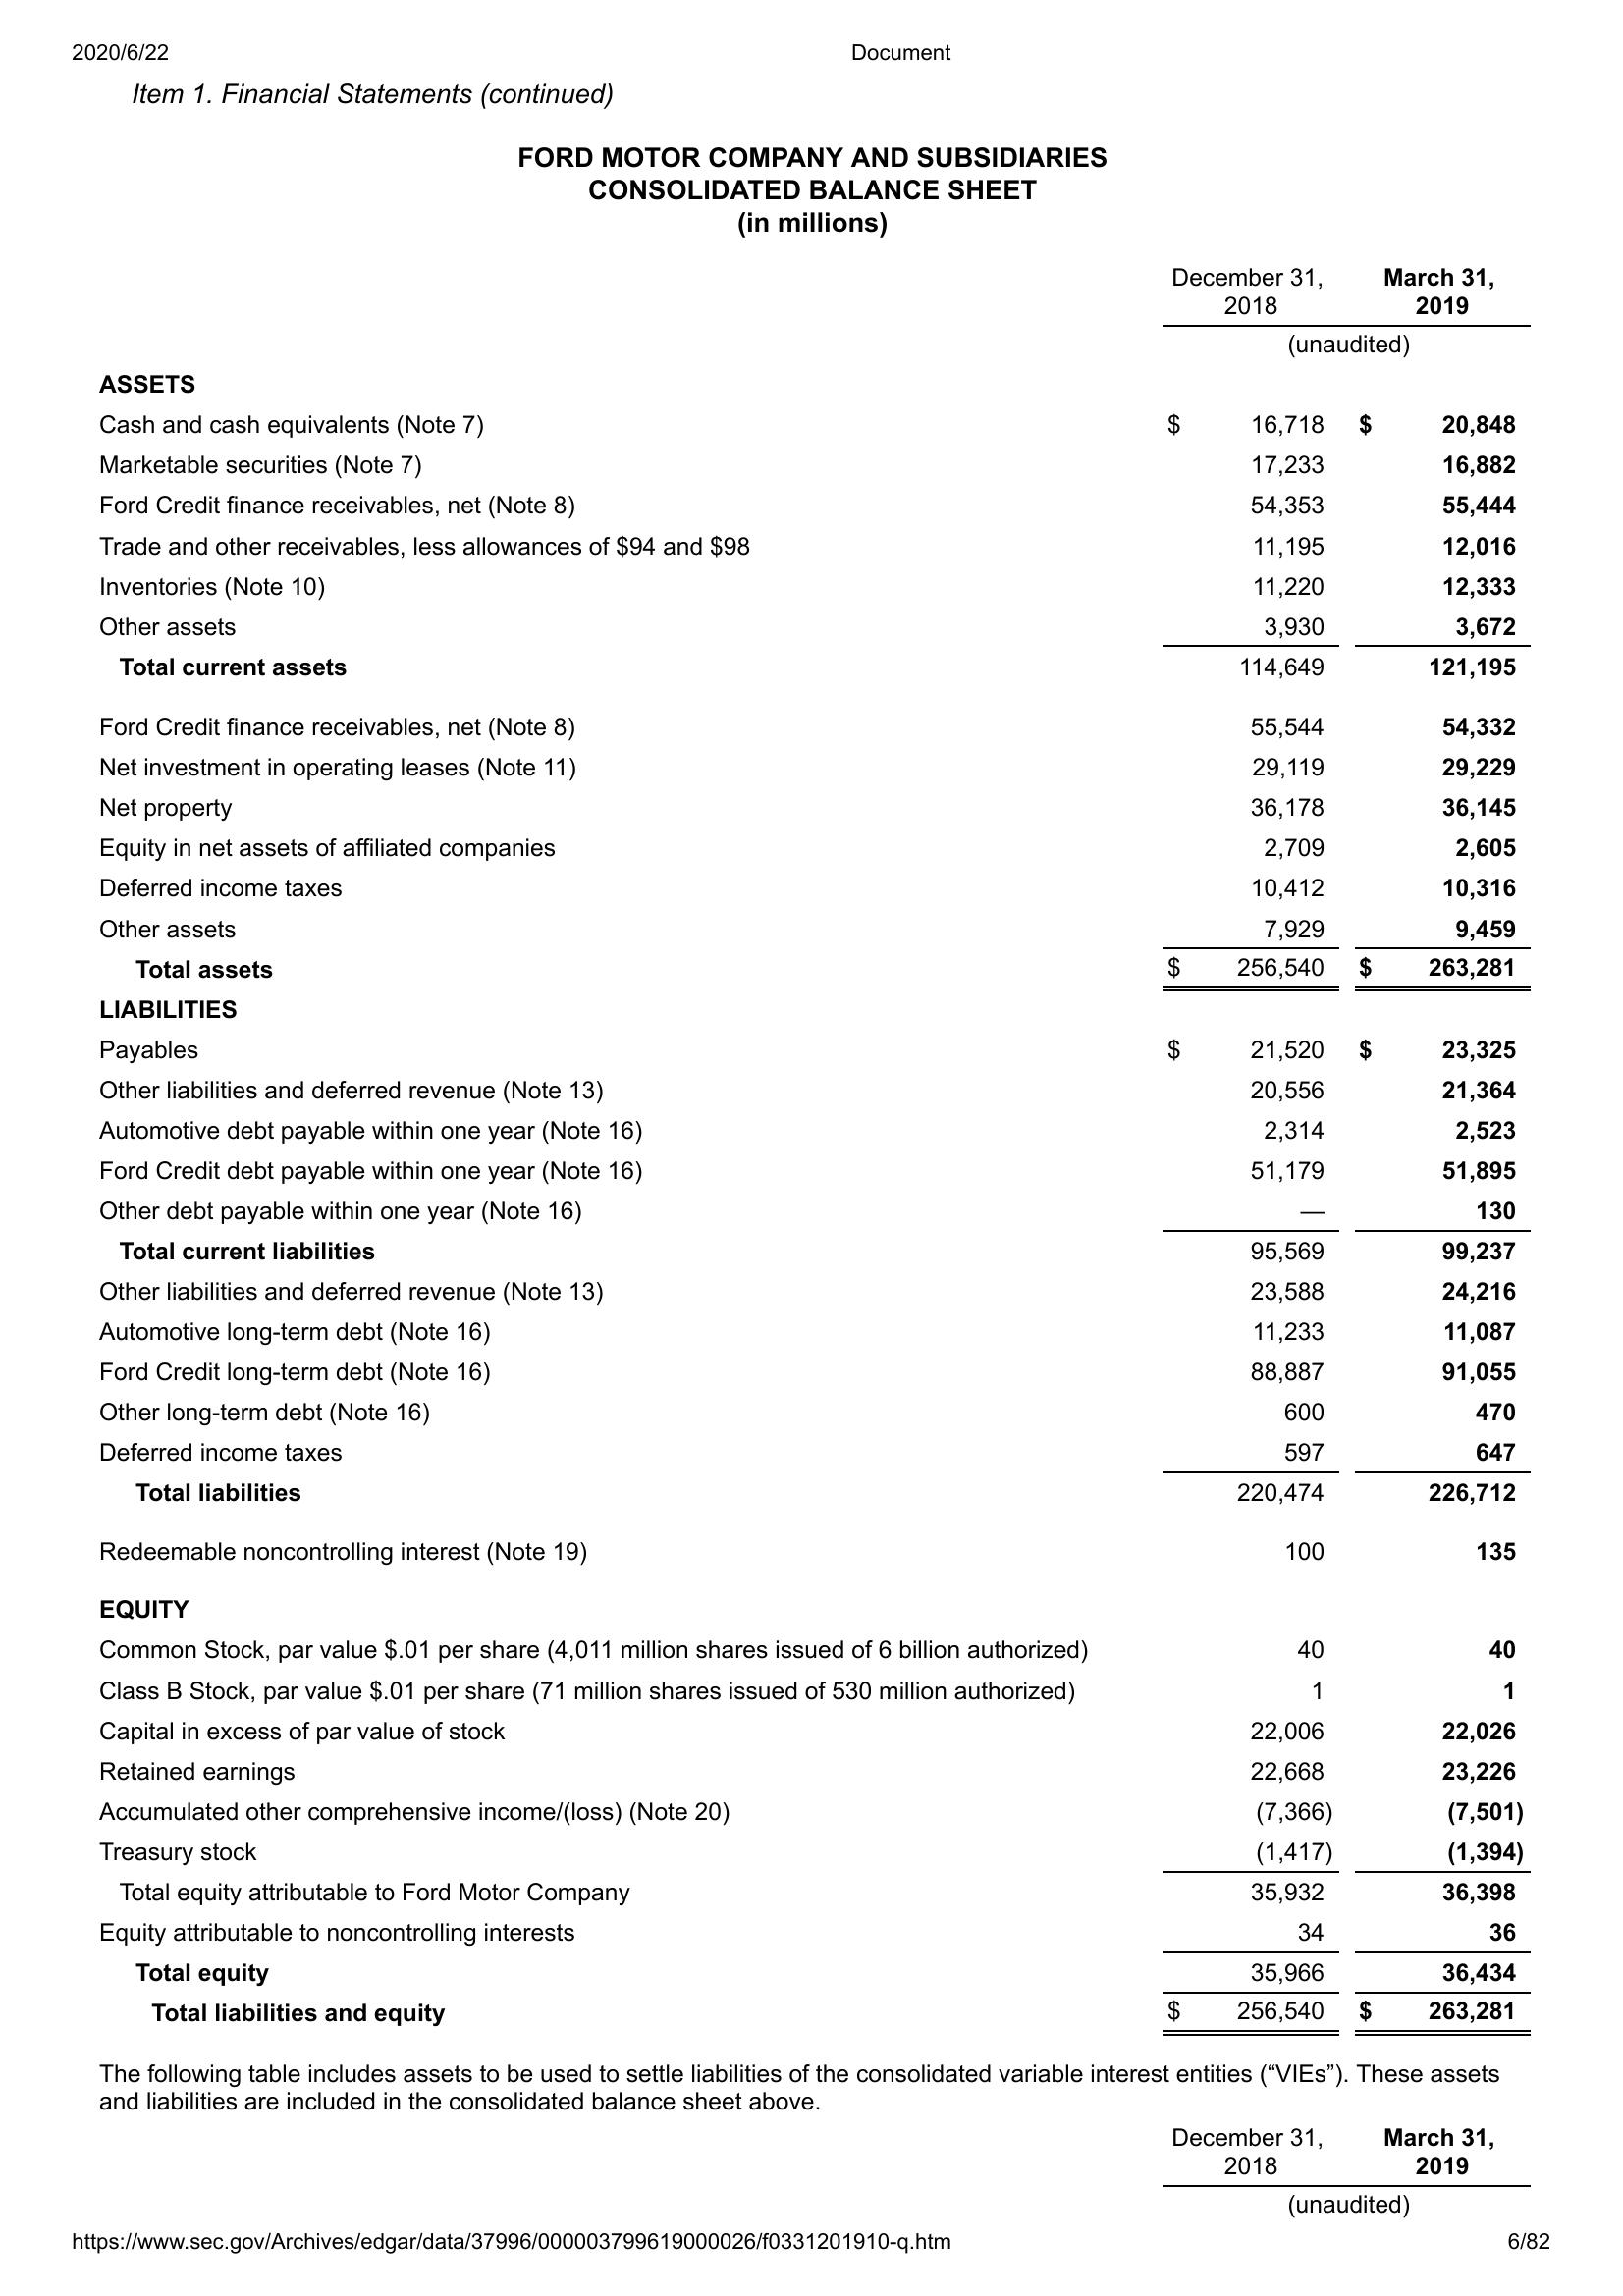table: (95, 260, 1530, 2221)
